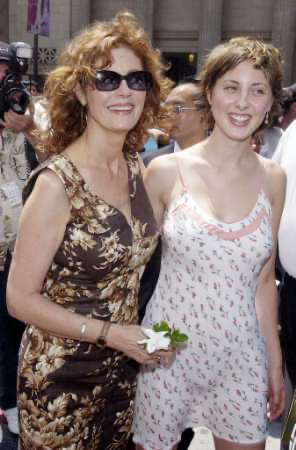Face: (83, 55, 152, 133), (214, 61, 267, 144)
